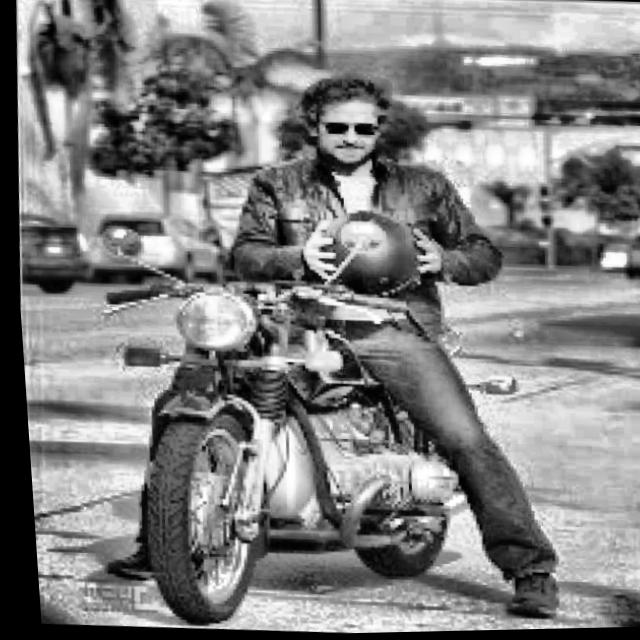motorcycle: (58, 194, 532, 639)
